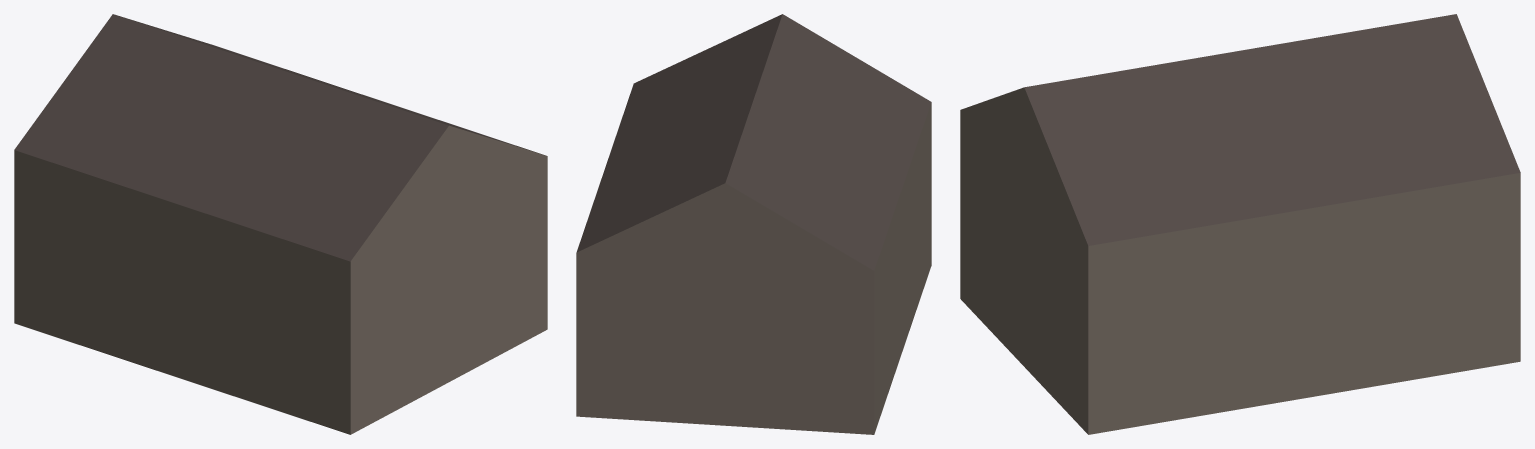
3 renders of one model, left to right at view 1: azimuth 30°, elevation 25°; view 2: azimuth 150°, elevation 25°; view 3: azimuth 270°, elevation 25°, orthographic. The views are drawn at different scales.
Visible parts, largest first — view 1: HP-w1287262673; view 2: HP-w1287262673; view 3: HP-w1287262673.
Part boxes in pixels (x1,y1,x2,y2): HP-w1287262673: [14, 14, 547, 434]; HP-w1287262673: [576, 14, 931, 434]; HP-w1287262673: [960, 14, 1520, 434].
Size of the model in its own units: 21.4 by 13.32 by 24.2.
